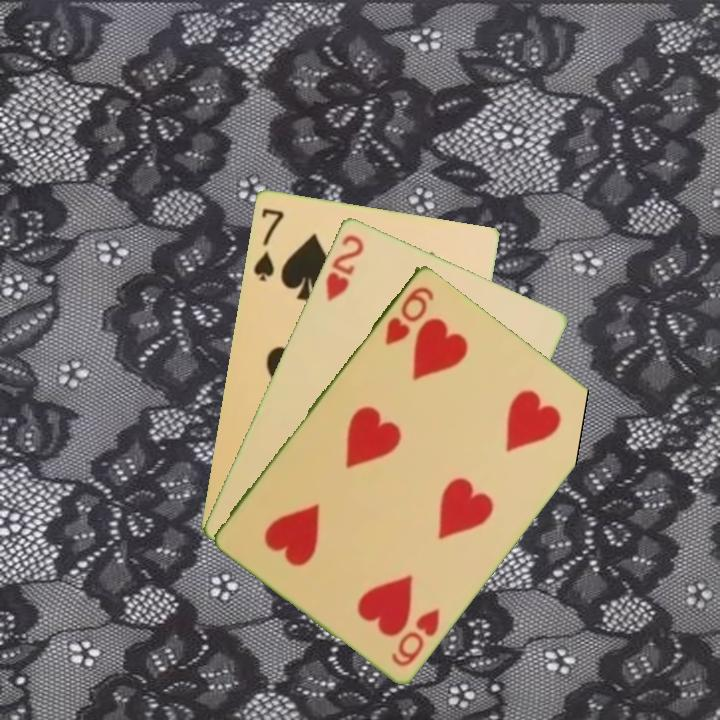2h: (321, 230, 367, 304)
6h: (381, 282, 437, 348), (387, 604, 443, 669)
7s: (249, 204, 287, 284)
